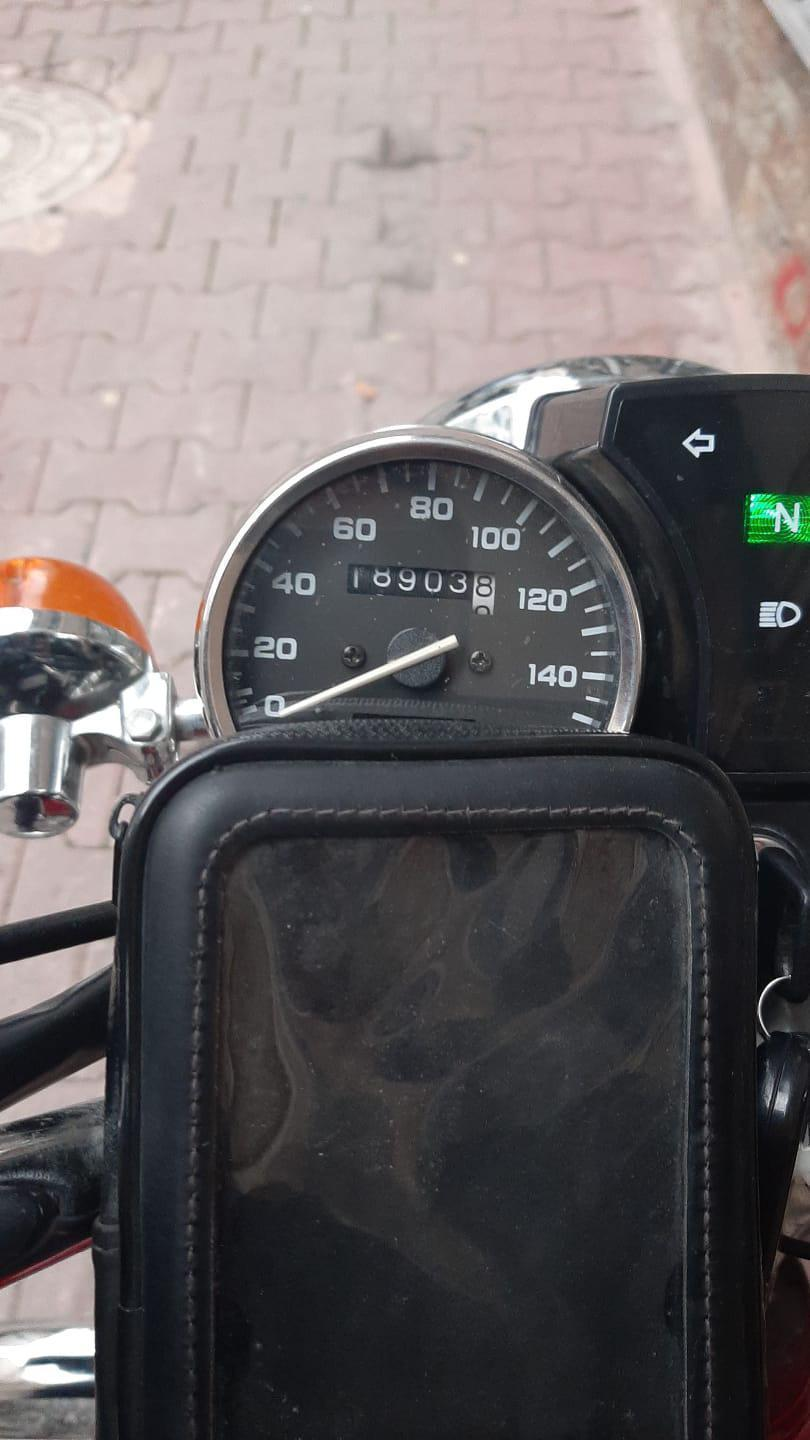0: (424, 567, 444, 596)
1: (349, 565, 362, 592)
3: (449, 568, 469, 595)
8: (372, 563, 394, 594), (474, 571, 494, 601)
9: (398, 565, 418, 593)
odometer: (344, 561, 497, 618)
